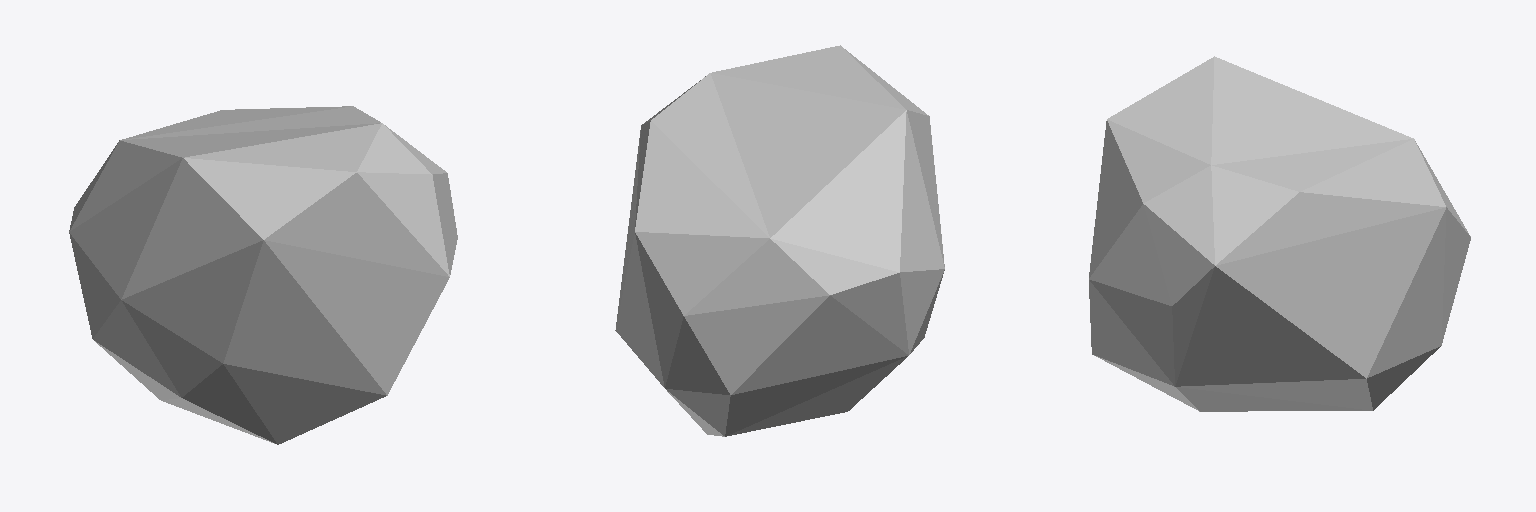
Rendered from Rock1Simple.obj.
3 renders of one model, left to right at view 1: azimuth 30°, elevation 25°; view 2: azimuth 150°, elevation 25°; view 3: azimuth 270°, elevation 25°, orthographic.
Visible parts, largest first — view 1: Icosphere_Icosphere.024; view 2: Icosphere_Icosphere.024; view 3: Icosphere_Icosphere.024.
Boxes of the visible parts, box(x1,y1,x2,y2) form: Icosphere_Icosphere.024: box(69, 106, 457, 444); Icosphere_Icosphere.024: box(615, 45, 944, 436); Icosphere_Icosphere.024: box(1089, 56, 1470, 411).
Bounding box in the file's own units: 9.07 × 8.05 × 9.43.